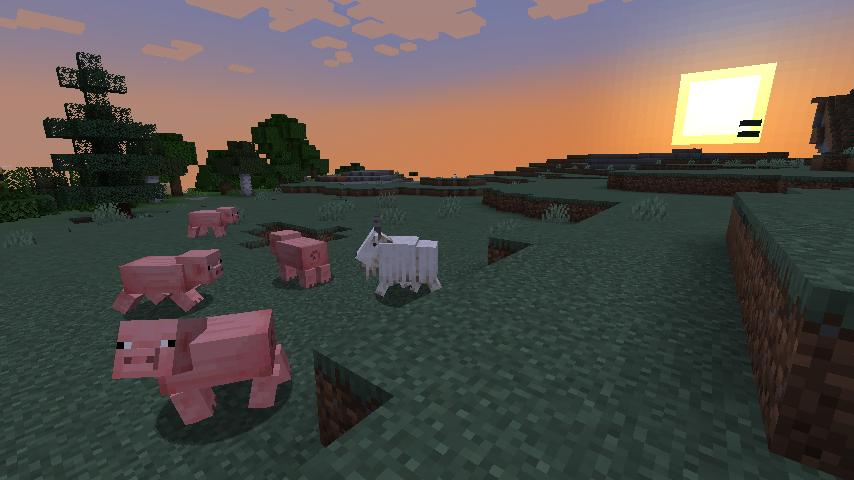goat: (356, 223, 441, 299)
pig: (110, 306, 290, 424), (113, 249, 225, 313), (269, 226, 335, 291), (187, 206, 240, 239)
